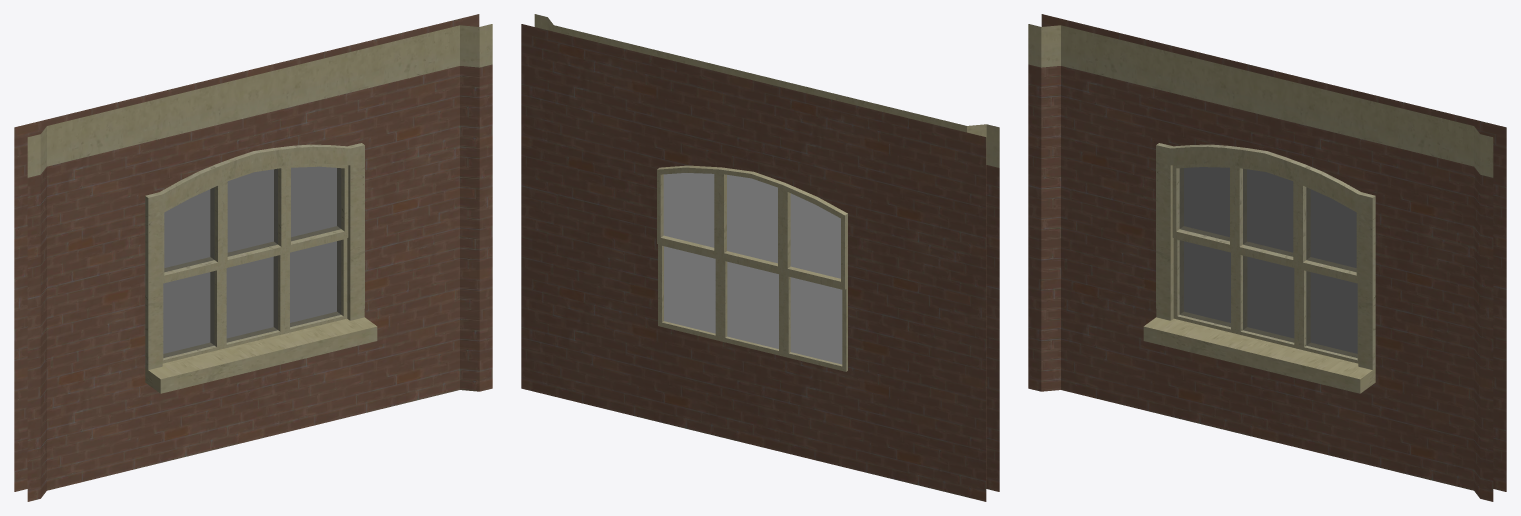
File: Brick_Inset_Window_Curved.glb
3 views of the same model, side by side, from view 1: azimuth 30°, elevation 25°; view 2: azimuth 150°, elevation 25°; view 3: azimuth 330°, elevation 25° (orthographic).
Visible parts, largest first — view 1: Brick_Inset_Window_Curved; view 2: Brick_Inset_Window_Curved; view 3: Brick_Inset_Window_Curved.
Boxes of the visible parts, <box> form: Brick_Inset_Window_Curved: <box>14,14,492,501</box>; Brick_Inset_Window_Curved: <box>521,14,999,501</box>; Brick_Inset_Window_Curved: <box>1028,14,1506,501</box>.
Bounding box in the file's own units: 4 × 3 × 0.3738.
4 materials, 2 textured.
